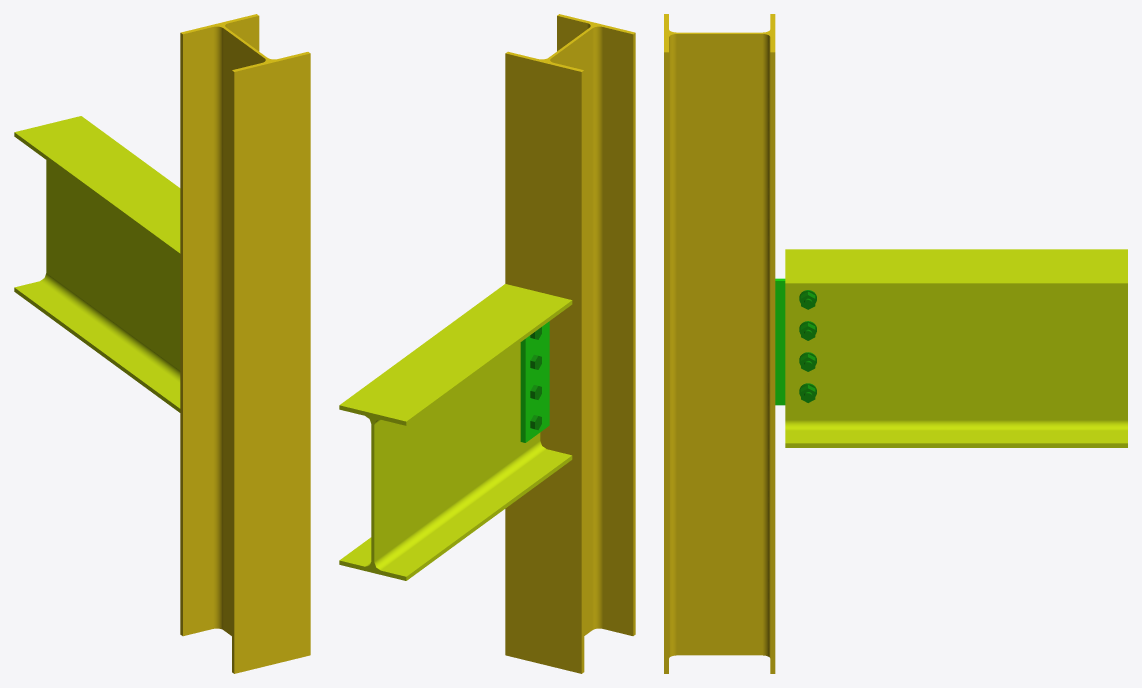
Rendered from 01a-Full Model Shear Tab.glb.
3 renders of one model, left to right at view 1: azimuth 30°, elevation 25°; view 2: azimuth 150°, elevation 25°; view 3: azimuth 270°, elevation 25°, orthographic. The views are drawn at different scales.
Parts seen in each view (by area): view 1: W-Wide Flange-Column W10X33 (1) [1245414], W-Wide Flange W16X36 (1) [1518880]; view 2: W-Wide Flange-Column W10X33 (1) [1245414], W-Wide Flange W16X36 (1) [1518880], [1714889], [1714891]; view 3: W-Wide Flange-Column W10X33 (1) [1245414], W-Wide Flange W16X36 (1) [1518880], [1714889], [1714891].
Boxes of the visible parts, x1,y1,x2,y2 form: W-Wide Flange-Column W10X33 (1) [1245414]: (180, 14, 310, 673); W-Wide Flange W16X36 (1) [1518880]: (14, 116, 180, 412); W-Wide Flange-Column W10X33 (1) [1245414]: (505, 14, 635, 673); W-Wide Flange W16X36 (1) [1518880]: (339, 284, 572, 580); [1714889]: (520, 321, 549, 442); [1714891]: (530, 327, 541, 430); W-Wide Flange-Column W10X33 (1) [1245414]: (664, 14, 775, 673); W-Wide Flange W16X36 (1) [1518880]: (785, 249, 1127, 447); [1714889]: (775, 278, 785, 405); [1714891]: (799, 290, 816, 402).
Size of the model in its own units: 0.2022 by 1.52 by 1.03.
